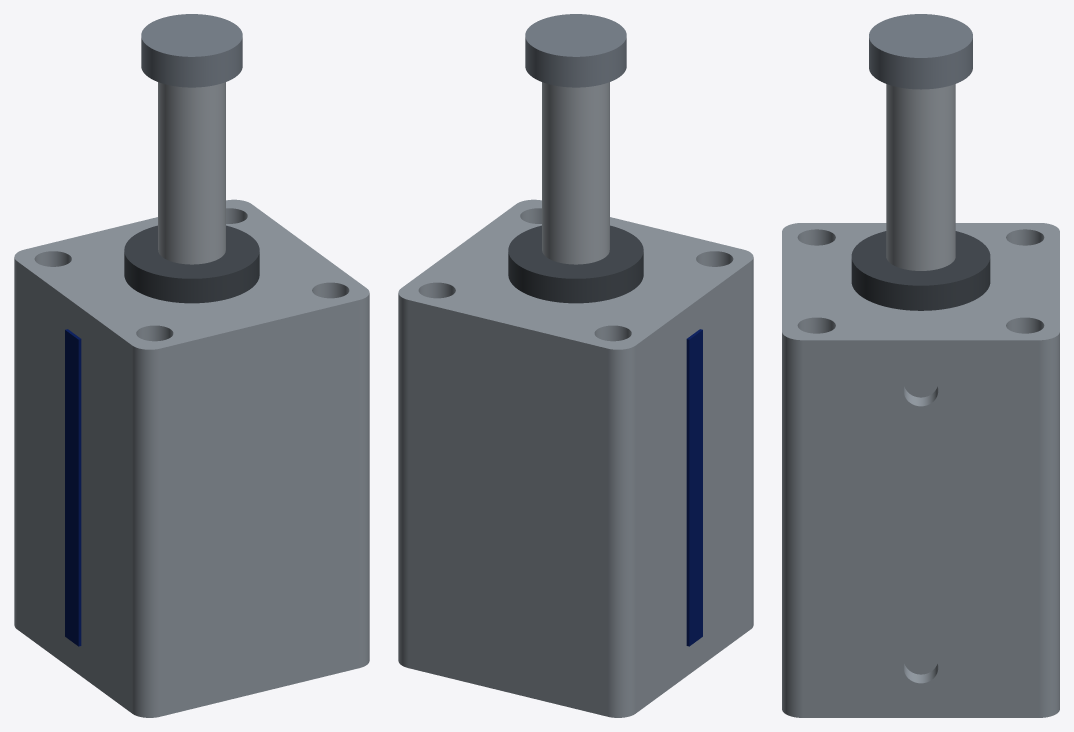
The model's file is pneumatic_cylinder.glb.
The picture shows the model from 3 angles, left to right: view 1: azimuth 30°, elevation 25°; view 2: azimuth 150°, elevation 25°; view 3: azimuth 270°, elevation 25°; orthographic projection. The views are drawn at different scales.
Parts seen in each view (by area): view 1: cylinder, rod; view 2: cylinder, rod; view 3: cylinder, rod.
Part boxes in pixels (x1=…): cylinder: x1=14, y1=199, x2=369, y2=717; rod: x1=141, y1=14, x2=242, y2=264; cylinder: x1=398, y1=199, x2=753, y2=717; rod: x1=525, y1=14, x2=626, y2=264; cylinder: x1=782, y1=223, x2=1059, y2=717; rod: x1=869, y1=14, x2=972, y2=270.
Bounding box in the file's own units: 0.0405 × 0.099 × 0.04.
